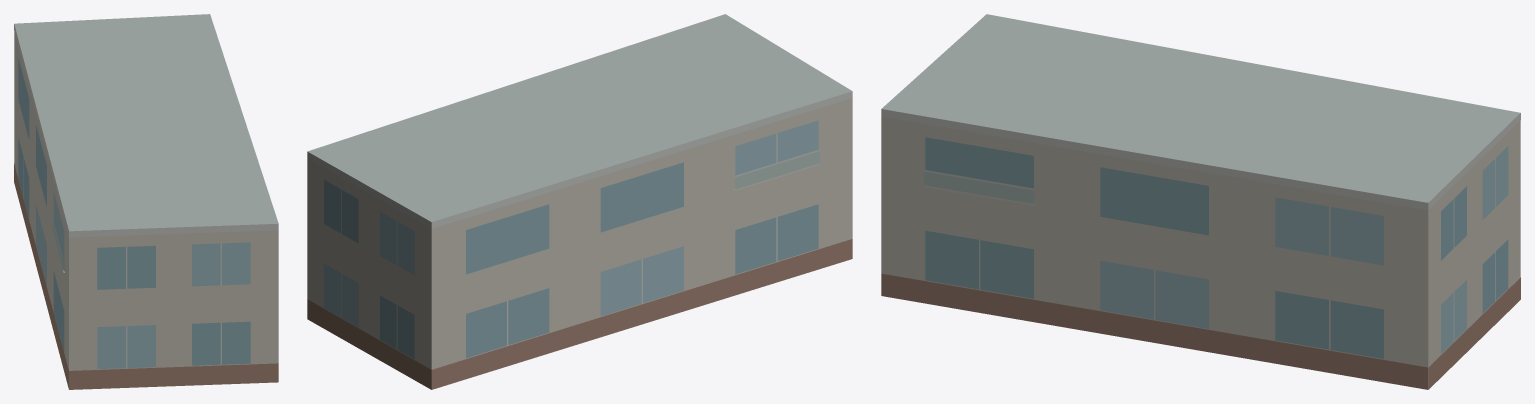
File: survey-upis-32522688.glb
The picture shows the model from 3 angles, left to right: view 1: azimuth 30°, elevation 25°; view 2: azimuth 150°, elevation 25°; view 3: azimuth 270°, elevation 25°; orthographic projection. The views are drawn at different scales.
Parts seen in each view (by area): view 1: survey-upis-32522688.tmp; view 2: survey-upis-32522688.tmp; view 3: survey-upis-32522688.tmp.
Boxes of the visible parts, x1=… form: survey-upis-32522688.tmp: x1=14, y1=14, x2=278, y2=389; survey-upis-32522688.tmp: x1=307, y1=14, x2=852, y2=389; survey-upis-32522688.tmp: x1=881, y1=14, x2=1520, y2=389.
Bounding box in the file's own units: 13.23 × 6.1 × 18.92.
